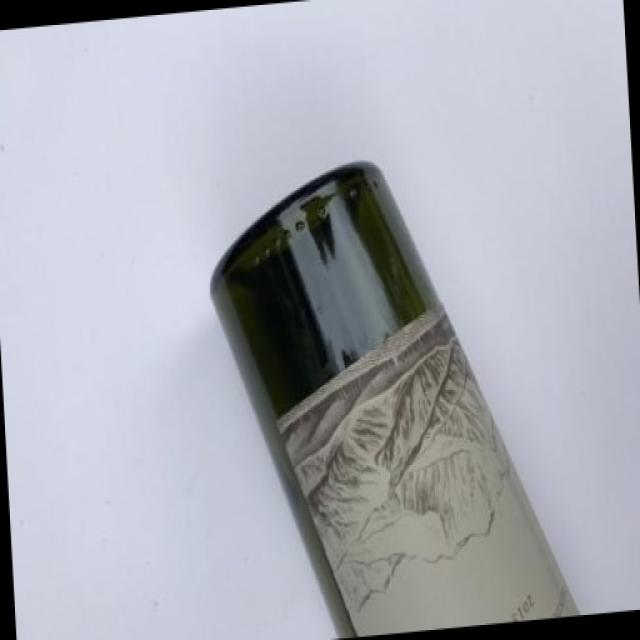vidrio: (203, 88, 628, 640)
